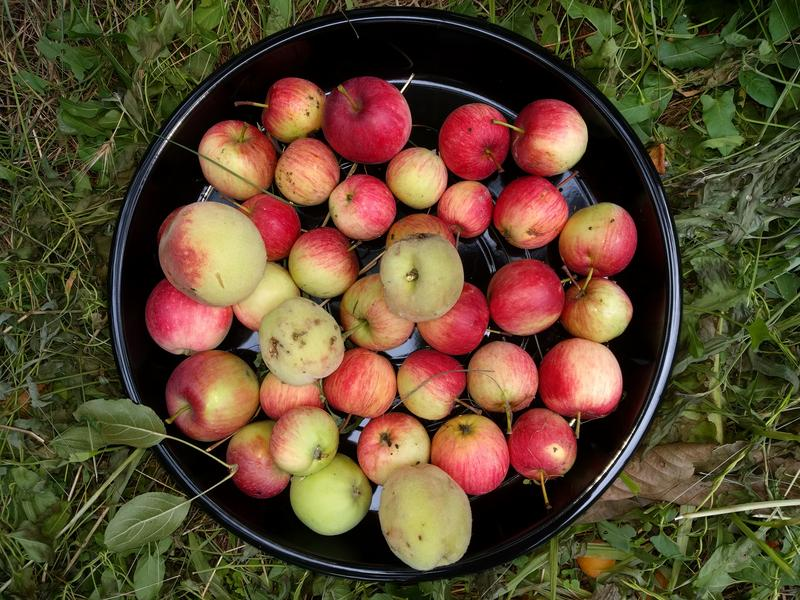apple: (159, 345, 271, 440), (318, 69, 422, 164), (197, 109, 288, 203), (534, 334, 632, 417), (478, 257, 574, 339), (141, 272, 238, 352), (507, 92, 591, 176), (502, 408, 587, 489), (559, 197, 641, 277), (434, 416, 514, 495), (496, 170, 572, 252), (438, 99, 513, 182), (256, 67, 339, 142), (556, 272, 643, 343), (324, 170, 411, 240), (287, 224, 366, 301), (355, 410, 433, 483), (270, 132, 345, 205), (320, 346, 398, 416), (395, 347, 466, 422)
